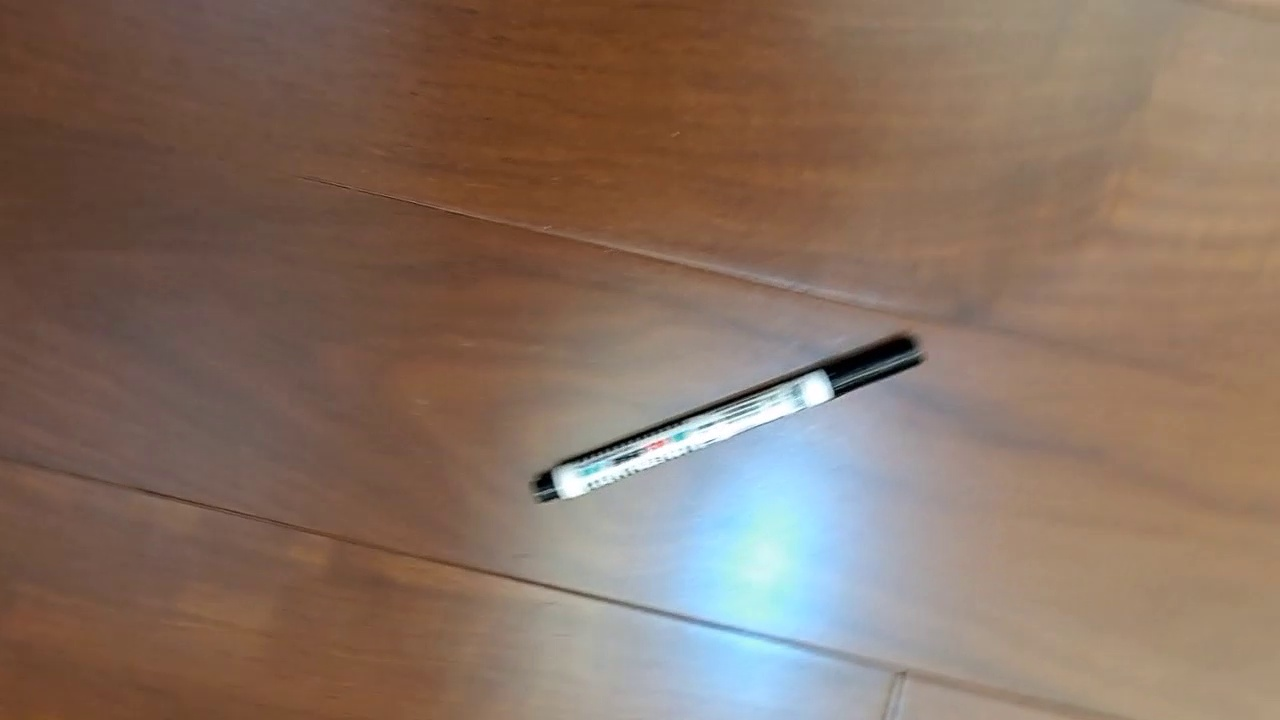pen: (528, 327, 929, 505)
